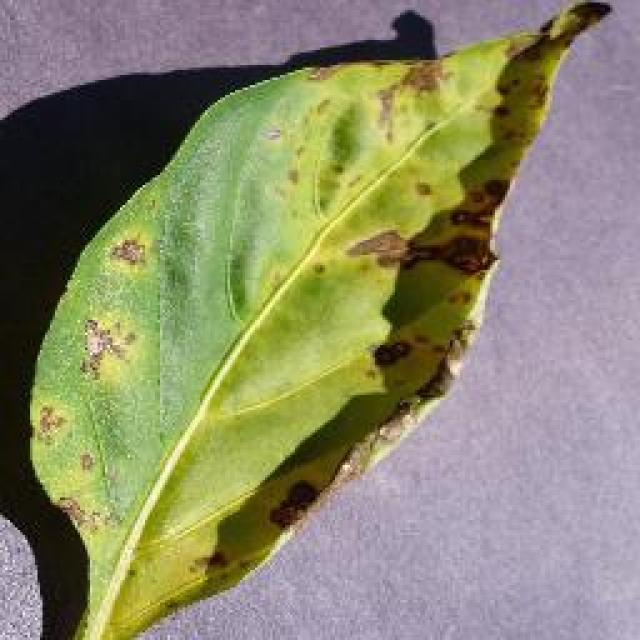Chilli_Bacterial_Spot: (15, 0, 615, 638), (25, 222, 160, 540), (72, 227, 152, 385), (73, 310, 135, 382), (535, 0, 615, 48), (265, 475, 323, 533), (343, 225, 415, 270), (438, 230, 498, 280), (77, 315, 115, 365), (30, 400, 70, 445), (105, 232, 150, 270), (367, 335, 415, 370), (188, 545, 232, 583)
